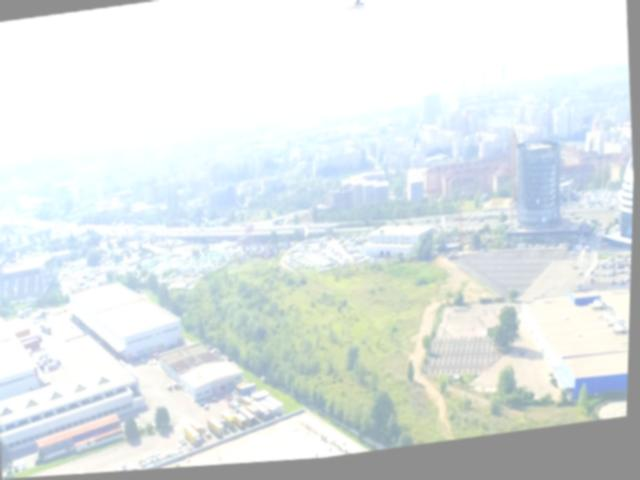plane: (347, 0, 367, 18)
